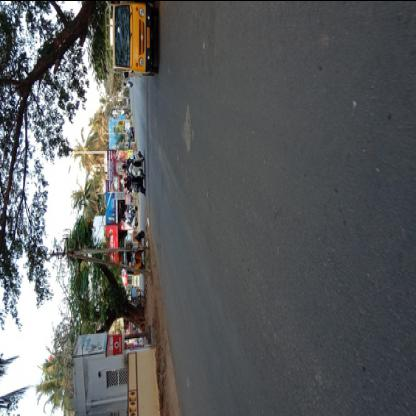speed-bumps: (138, 74, 156, 226)
